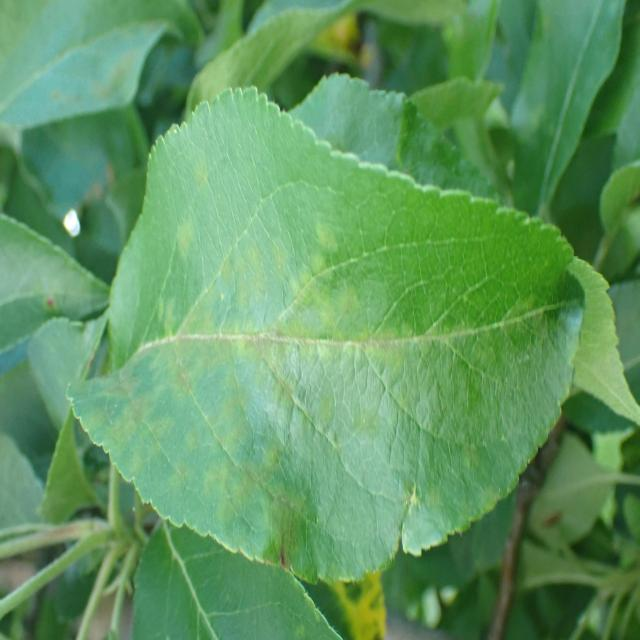scab: (81, 224, 564, 544)
